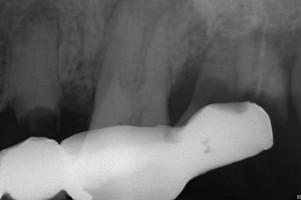Furcation Involvement: (16, 0, 61, 28), (104, 0, 120, 27)
